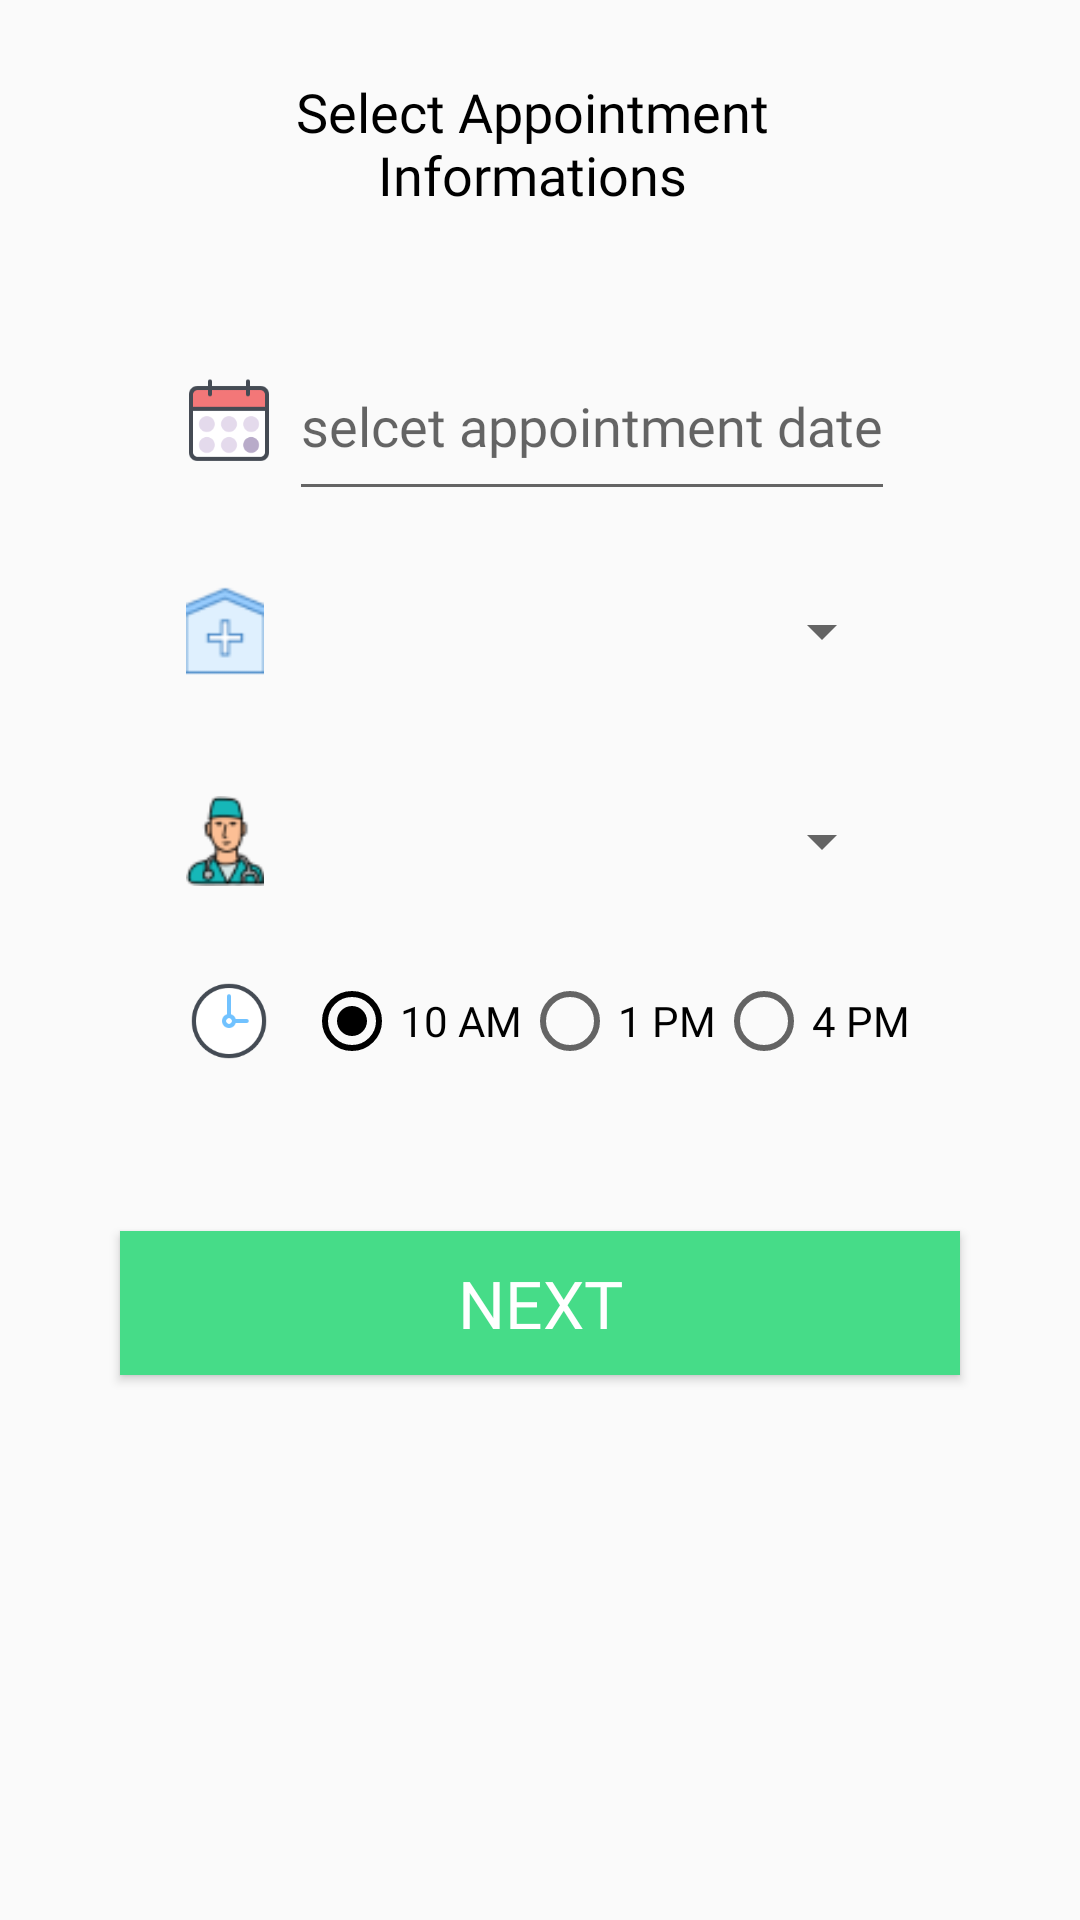

Icons on this 1080px×1920px Android screen, each with its box as (x1=x1, y1=y1, x2=x2, y2=y2):
calender: (x1=189, y1=379, x2=269, y2=461)
clock: (x1=191, y1=983, x2=267, y2=1059)
